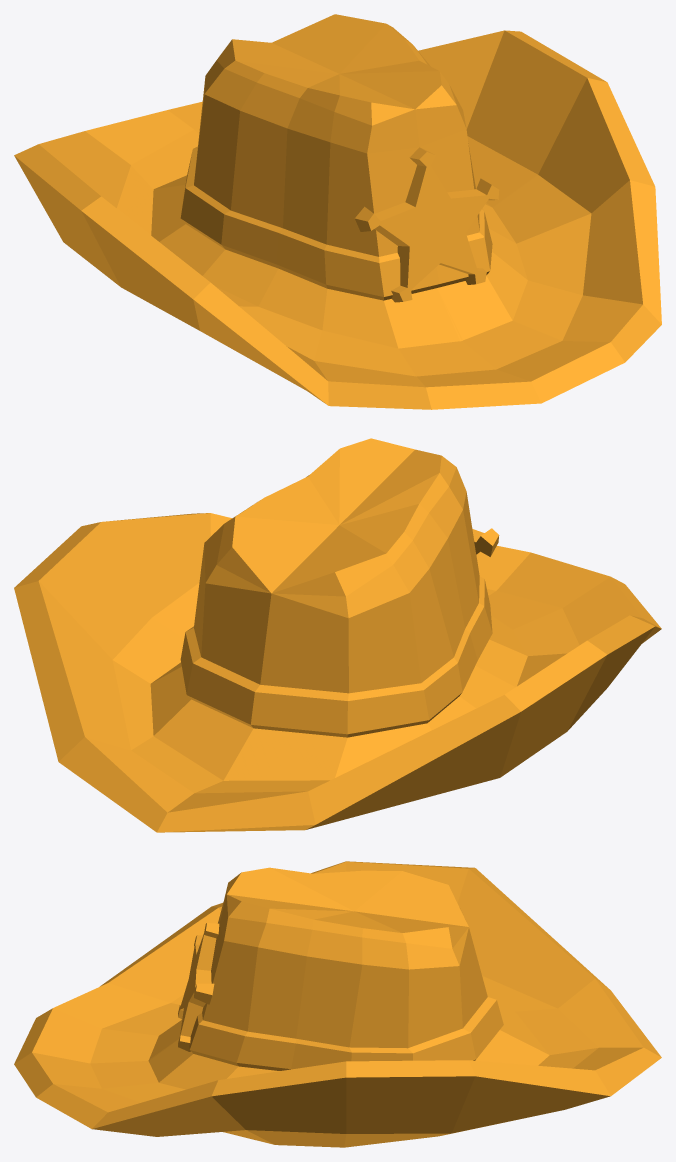
File: SM_Cat_Hat_Cowboy.fbx
3 views of the same model, one above another, from view 1: azimuth 30°, elevation 25°; view 2: azimuth 150°, elevation 25°; view 3: azimuth 270°, elevation 25° (orthographic). The views are drawn at different scales.
Visible parts, largest first — view 1: SM_Cat_Hat_Cowboy; view 2: SM_Cat_Hat_Cowboy; view 3: SM_Cat_Hat_Cowboy.
Boxes of the visible parts, <box> form: SM_Cat_Hat_Cowboy: <box>14,14,661,409</box>; SM_Cat_Hat_Cowboy: <box>14,438,661,832</box>; SM_Cat_Hat_Cowboy: <box>14,861,661,1147</box>.
Size of the model in its own units: 0.1378 by 0.0587 by 0.1745.
